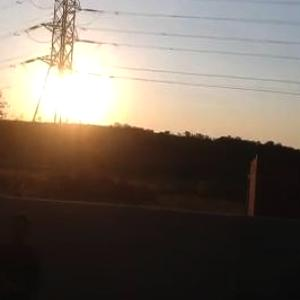follow: (0, 202, 50, 299)
